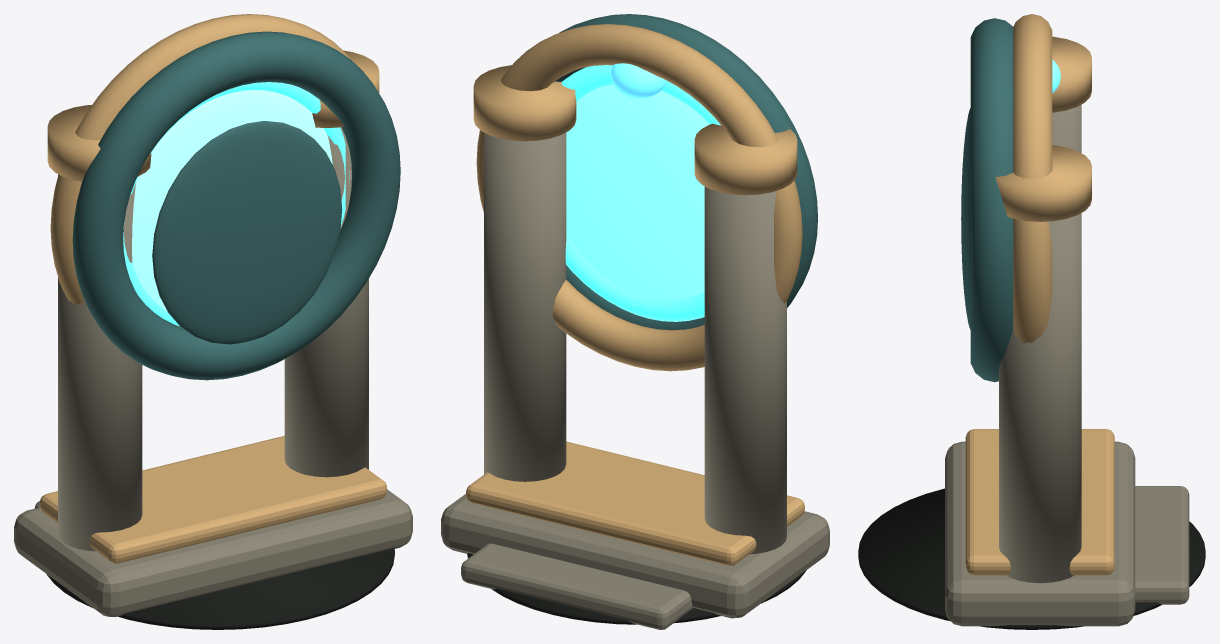
The model's file is portal.glb.
3 renders of one model, left to right at view 1: azimuth 30°, elevation 25°; view 2: azimuth 150°, elevation 25°; view 3: azimuth 270°, elevation 25°, orthographic. The views are drawn at different scales.
Visible parts, largest first — view 1: Portal_Arch_Jamb, Portal_Threshold_Depth, Portal_Base, Portal_Left_Pillar, Portal_Base_Trim, Portal_Right_Pillar, Portal_Shadow, Portal_Threshold_Field, Portal_Arch_Bronze, Portal_Left_Cap, Portal_Arch_Glow, Portal_Right_Cap; view 2: Portal_Right_Pillar, Portal_Left_Pillar, Portal_Threshold_Field, Portal_Arch_Bronze, Portal_Base_Trim, Portal_Base, Portal_Step, Portal_Arch_Jamb, Portal_Left_Cap, Portal_Right_Cap, Portal_Arch_Glow, Portal_Shadow (+1 smaller); view 3: Portal_Right_Pillar, Portal_Base, Portal_Arch_Jamb, Portal_Arch_Bronze, Portal_Base_Trim, Portal_Shadow, Portal_Step, Portal_Right_Cap, Portal_Left_Cap, Portal_Threshold_Depth, Portal_Left_Pillar.
Part boxes in pixels (x1,y1,x2,y2): Portal_Arch_Jamb: (72,31,400,380); Portal_Threshold_Depth: (152,121,342,344); Portal_Base: (14,489,412,616); Portal_Left_Pillar: (58,174,142,551); Portal_Base_Trim: (40,436,386,563); Portal_Right_Pillar: (284,127,368,477); Portal_Shadow: (46,548,394,629); Portal_Threshold_Field: (132,90,332,326); Portal_Arch_Bronze: (50,14,351,305); Portal_Left_Cap: (47,105,151,181); Portal_Arch_Glow: (123,82,349,325); Portal_Right_Cap: (312,50,379,127); Portal_Right_Pillar: (484,132,566,481); Portal_Left_Pillar: (704,186,786,554); Portal_Threshold_Field: (566,84,709,321); Portal_Arch_Bronze: (476,24,802,371); Portal_Base_Trim: (466,441,804,565); Portal_Base: (441,494,829,618); Portal_Step: (461,543,693,629); Portal_Arch_Jamb: (555,14,817,330); Portal_Left_Cap: (694,123,797,195); Portal_Right_Cap: (473,65,576,141); Portal_Arch_Glow: (561,65,720,320); Portal_Shadow: (467,553,806,624); Portal_Right_Pillar: (999,213,1081,583); Portal_Base: (945,441,1135,626); Portal_Arch_Jamb: (970,18,1013,382); Portal_Arch_Bronze: (1013,14,1052,343); Portal_Base_Trim: (965,429,1114,575); Portal_Shadow: (858,488,1205,629); Portal_Step: (1135,486,1189,604); Portal_Right_Cap: (995,145,1091,221); Portal_Left_Cap: (1052,36,1091,112); Portal_Threshold_Depth: (961,108,970,329); Portal_Left_Pillar: (1052,104,1081,153).
Bounding box in the file's own units: 0.9 × 1.4 × 0.84.
